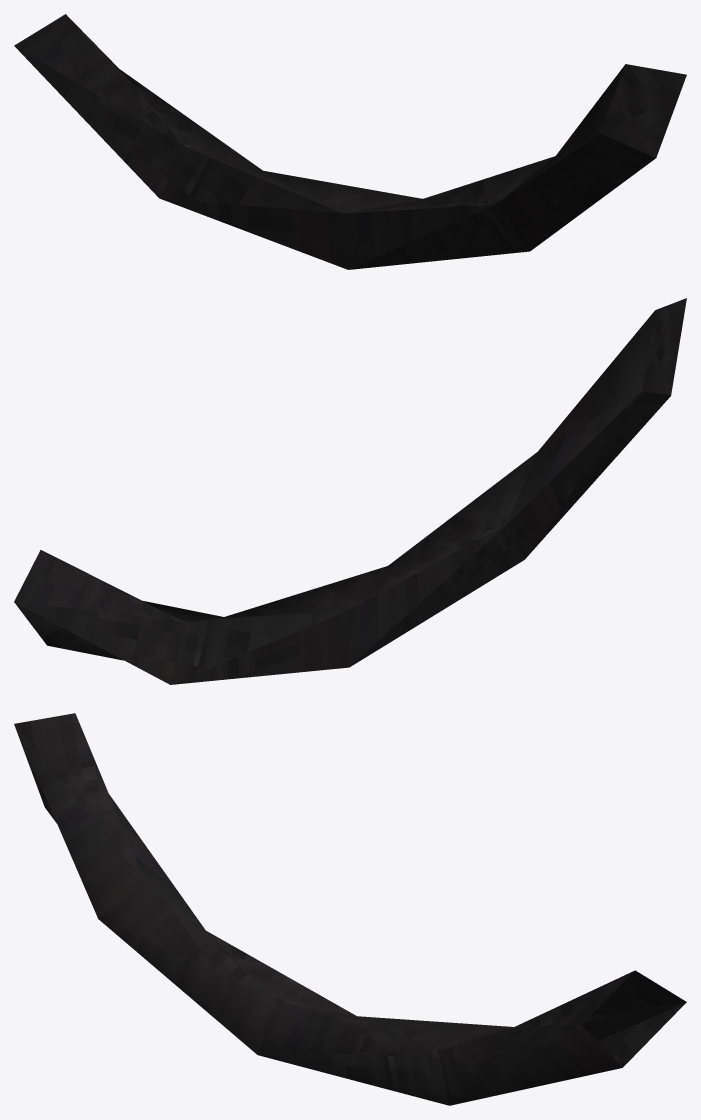
Rendered from original-151.obj.
3 views of the same model, one above another, from view 1: azimuth 90°, elevation 25°; view 2: azimuth 150°, elevation 25°; view 3: azimuth 270°, elevation 25° (orthographic). The views are drawn at different scales.
Visible parts, largest first — view 1: mesh89/mesh89-geometry#mesh89-geometry; view 2: mesh89/mesh89-geometry#mesh89-geometry; view 3: mesh89/mesh89-geometry#mesh89-geometry.
Boxes of the visible parts, x1,y1,x2,y2 form: mesh89/mesh89-geometry#mesh89-geometry: [14, 14, 686, 269]; mesh89/mesh89-geometry#mesh89-geometry: [14, 298, 686, 684]; mesh89/mesh89-geometry#mesh89-geometry: [14, 713, 686, 1105].
Bounding box in the file's own units: 0.00461 × 0.00396 × 0.00854.
